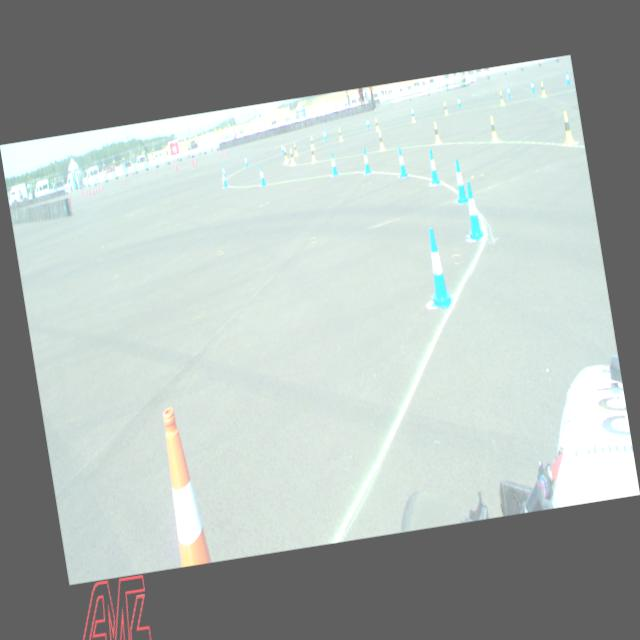blue_cone: (420, 227, 454, 310), (461, 181, 484, 239), (452, 158, 468, 203), (426, 150, 441, 186), (396, 146, 408, 178), (362, 148, 372, 174), (329, 152, 339, 176), (258, 165, 266, 187), (222, 172, 228, 187), (564, 71, 570, 85), (530, 80, 536, 94), (456, 96, 462, 108), (322, 129, 328, 141), (506, 85, 511, 98), (244, 154, 248, 168), (222, 165, 226, 178), (366, 117, 370, 129), (280, 142, 284, 154), (411, 106, 415, 118)
large_orange_cone: (157, 407, 212, 568)
yellow_cone: (560, 110, 576, 146), (488, 116, 499, 142), (432, 122, 442, 144), (377, 130, 385, 150), (288, 148, 296, 165), (310, 145, 316, 163), (540, 81, 546, 98), (498, 90, 504, 106), (282, 147, 288, 163), (374, 118, 380, 131), (410, 112, 416, 123), (293, 142, 298, 155), (338, 128, 343, 141), (310, 136, 315, 149), (444, 102, 448, 115)
